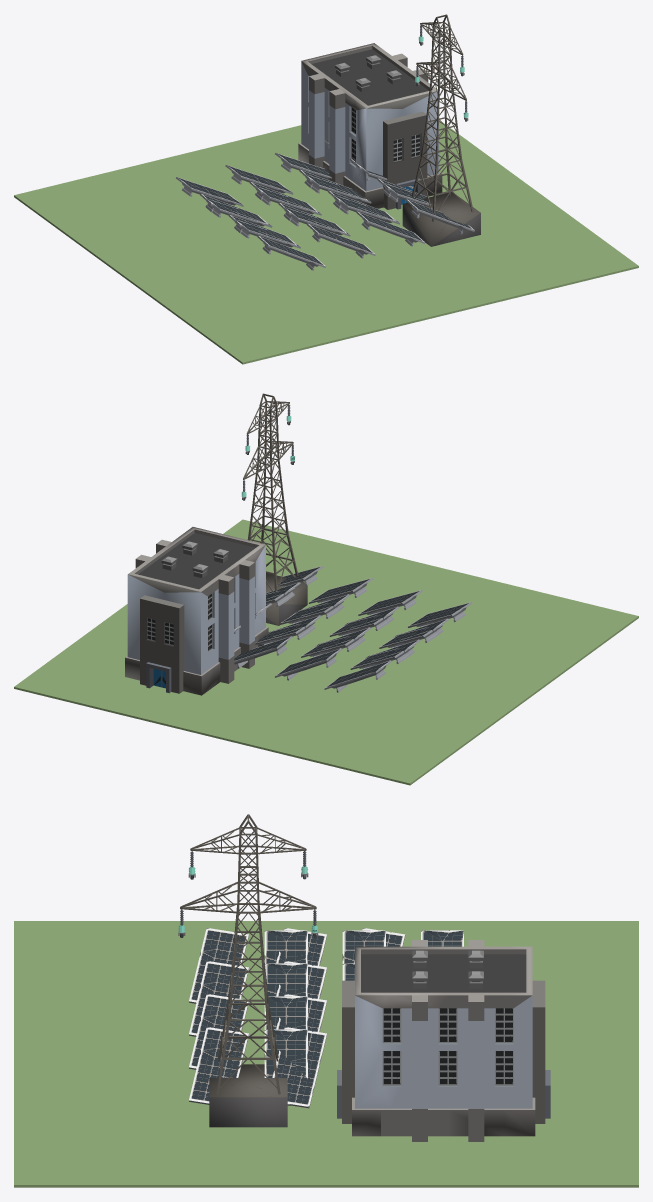
The model's file is solar-farm.glb.
3 views of the same model, one above another, from view 1: azimuth 30°, elevation 25°; view 2: azimuth 150°, elevation 25°; view 3: azimuth 270°, elevation 25° (orthographic). The views are drawn at different scales.
Visible parts, largest first — view 1: Ground, Solar_Powerhouse, Solar_Pylon, Solar_0_1, Solar_0_2, Solar_0_0, Solar_2_0, Solar_2_1, Solar_0_3, Solar_2_2, Solar_1_2, Solar_1_0 (+1 smaller); view 2: Ground, Solar_Powerhouse, Solar_Pylon, Solar_2_0, Solar_2_1, Solar_2_2, Solar_0_0, Solar_0_1, Solar_0_2, Solar_1_0, Solar_1_1, Solar_1_2 (+1 smaller); view 3: Ground, Solar_Powerhouse, Solar_Pylon, Solar_0_3, Solar_0_0, Solar_0_1, Solar_0_2, Solar_1_3, Solar_1_0, Solar_2_0, Solar_1_1, Solar_1_2.
Part boxes in pixels (box(x1,y1,x2,y2)): Ground: box(14, 120, 638, 364); Solar_Powerhouse: box(298, 43, 442, 209); Solar_Pylon: box(402, 14, 480, 246); Solar_0_1: box(282, 206, 375, 258); Solar_0_2: box(332, 195, 425, 246); Solar_0_0: box(233, 219, 325, 270); Solar_2_0: box(176, 177, 268, 224); Solar_2_1: box(225, 165, 317, 212); Solar_0_3: box(381, 182, 474, 234); Solar_2_2: box(275, 153, 367, 200); Solar_1_2: box(303, 173, 396, 221); Solar_1_0: box(204, 198, 296, 245); Ground: box(14, 519, 638, 785); Solar_Powerhouse: box(125, 527, 268, 695); Solar_Pylon: box(241, 393, 307, 625); Solar_2_0: box(324, 644, 415, 692); Solar_2_1: box(275, 632, 365, 680); Solar_2_2: box(234, 620, 315, 668); Solar_0_0: box(391, 602, 472, 647); Solar_0_1: box(340, 590, 422, 635); Solar_0_2: box(290, 578, 373, 623); Solar_1_0: box(361, 623, 443, 668); Solar_1_1: box(311, 611, 394, 656); Solar_1_2: box(266, 599, 344, 643); Ground: box(14, 921, 638, 1187); Solar_Powerhouse: box(337, 940, 550, 1141); Solar_Pylon: box(178, 814, 318, 1127); Solar_0_3: box(189, 1027, 307, 1105); Solar_0_0: box(189, 928, 307, 1003); Solar_0_1: box(189, 961, 307, 1036); Solar_0_2: box(189, 994, 307, 1069); Solar_1_3: box(272, 1027, 326, 1108); Solar_1_0: box(276, 928, 385, 966); Solar_2_0: box(354, 928, 463, 963); Solar_1_1: box(276, 961, 354, 999); Solar_1_2: box(276, 994, 326, 1032).
Size of the model in its own units: 32 by 16.7 by 32.
3 materials, 2 textured.
